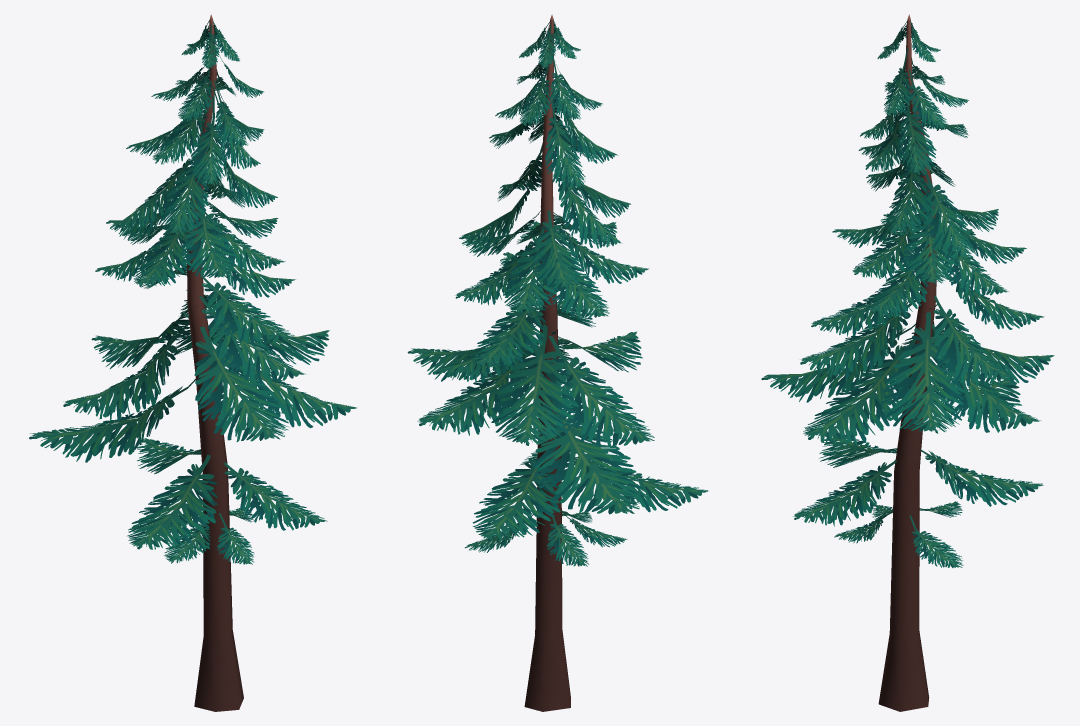
The model's file is Pine_Tree_1E.fbx.
3 renders of one model, left to right at view 1: azimuth 30°, elevation 25°; view 2: azimuth 150°, elevation 25°; view 3: azimuth 270°, elevation 25°, orthographic.
Visible parts, largest first — view 1: Pine_Tree_1E; view 2: Pine_Tree_1E; view 3: Pine_Tree_1E.
Part boxes in pixels (box(x1,y1,x2,y2)): Pine_Tree_1E: box(29, 14, 356, 711); Pine_Tree_1E: box(407, 14, 708, 711); Pine_Tree_1E: box(761, 14, 1054, 711).
Bounding box in the file's own units: 319 × 747 × 313.
